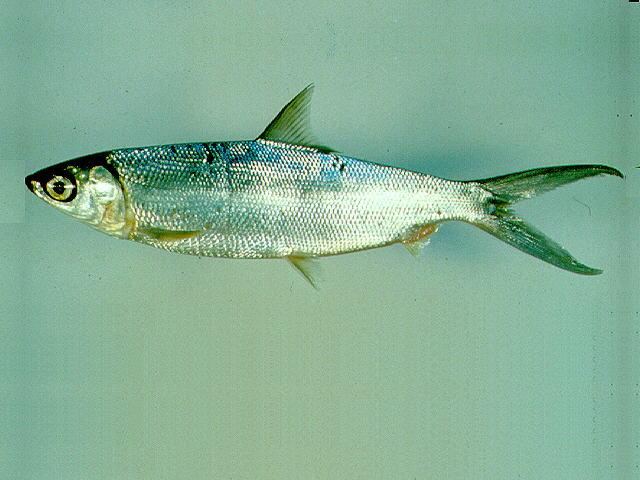Mulut: (3, 152, 71, 228)
Sirip Anal: (382, 208, 453, 270)
Sirip Dada: (128, 212, 226, 264)
Sirip Ekor: (470, 137, 632, 287)
Sirip Perut: (268, 236, 336, 299)
Sirip Punggung: (245, 74, 353, 164)
